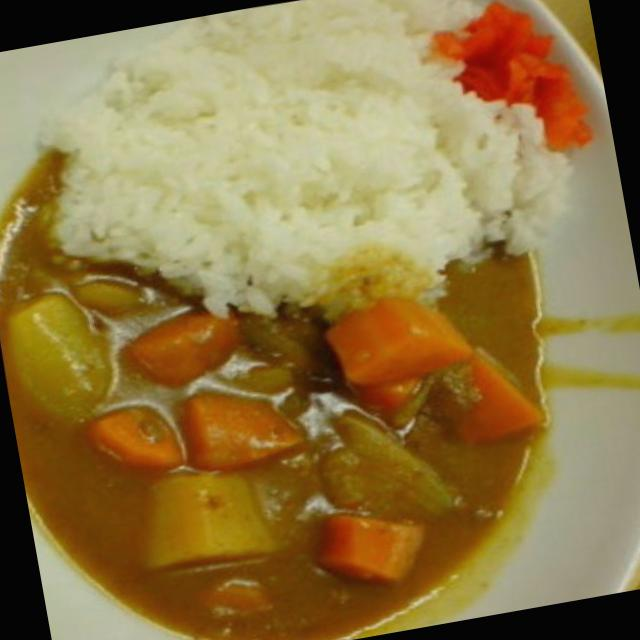Beef Curry: (0, 205, 582, 640)
Rice: (33, 0, 492, 283)
